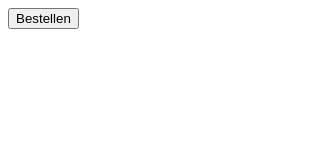
Test case: shows the order number after success
Click the button "Bestellen": point(43, 18) [8,8,79,29]
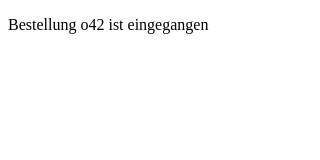
Expected: the text "Bestellung o42 ist eingegangen" is shown, [8,16,208,33]
